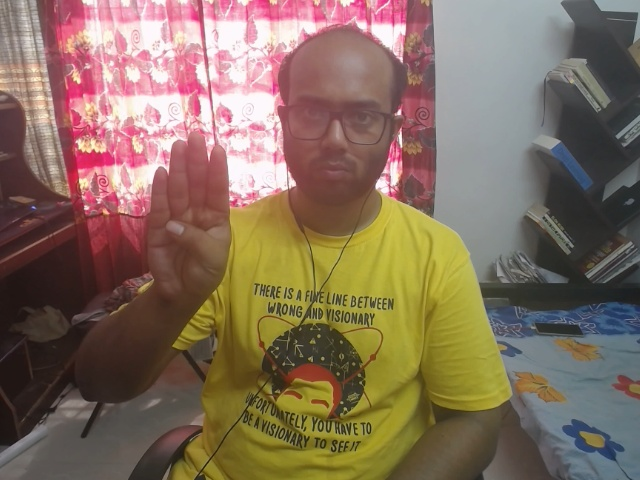counting: (116, 114, 260, 325)
